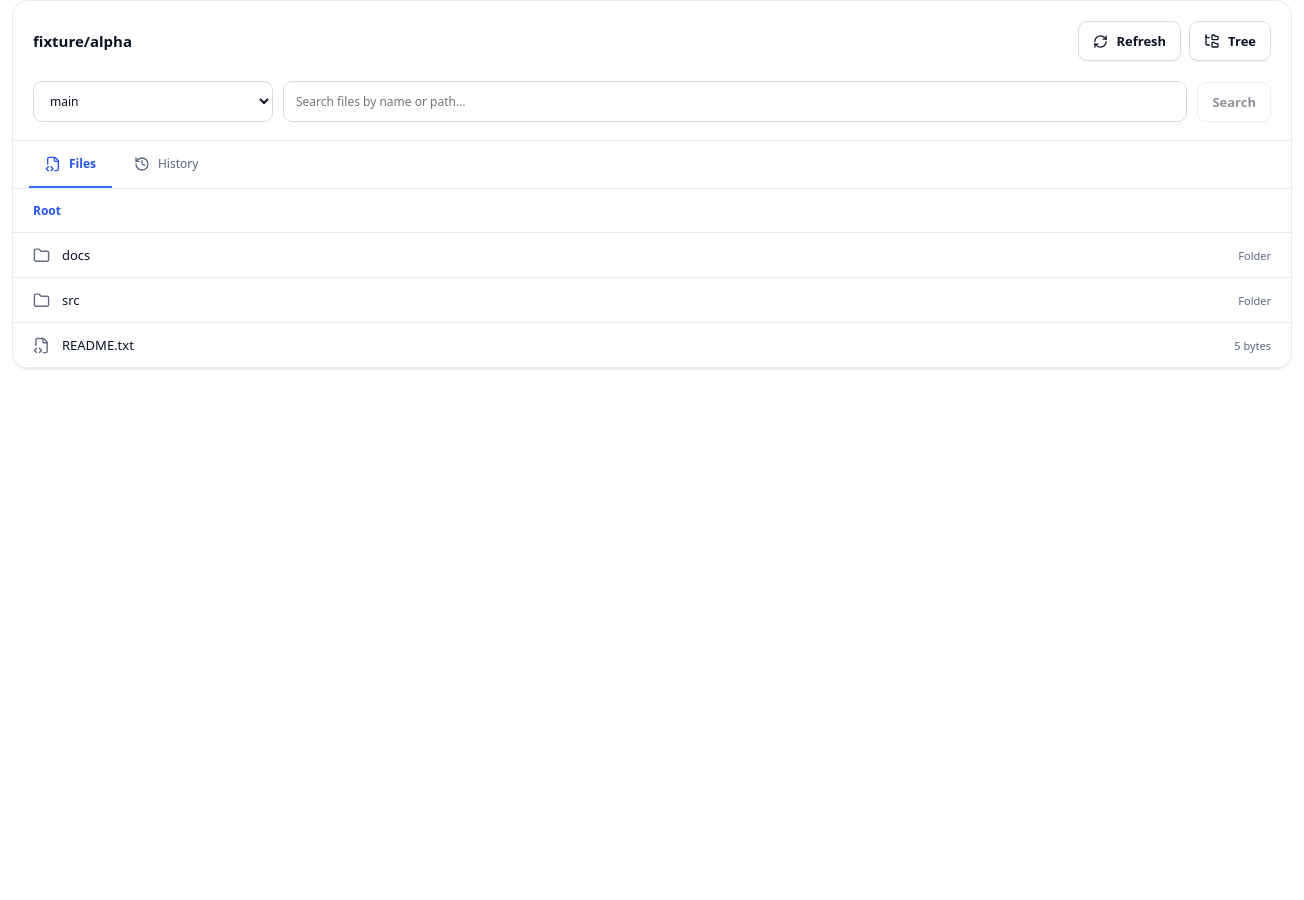
Test case: removes both code and tree after a folder request reports lost access
This screenshot has width=1304, height=900.
Click the button "README.txt 5 bytes" at x=98, y=345, box [13,323,1291,368]
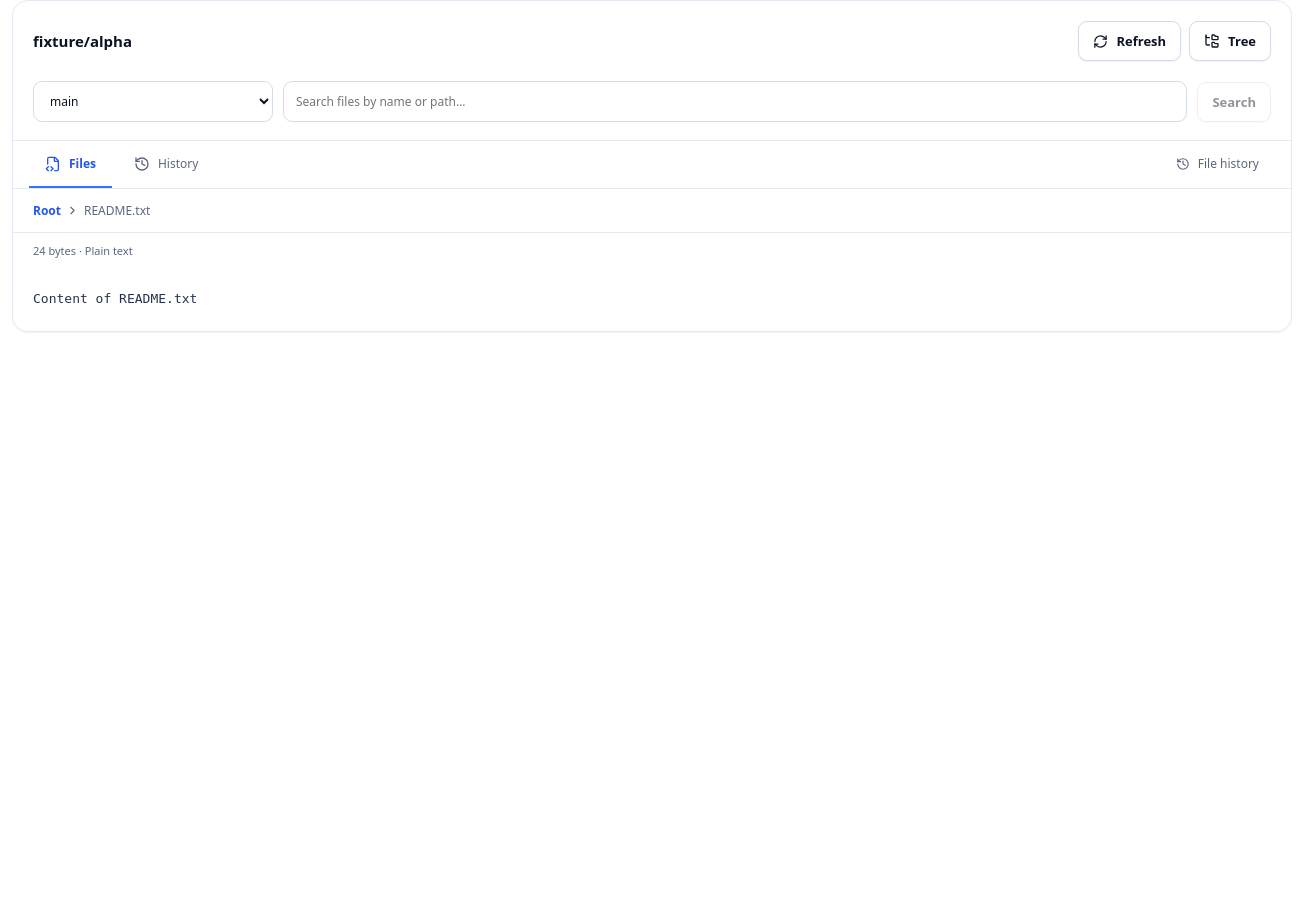
Now the text "Content of README.txt" is shown, box [33,291,197,306]
Click the button "Tree" at x=1230, y=41, box [1189,21,1271,61]
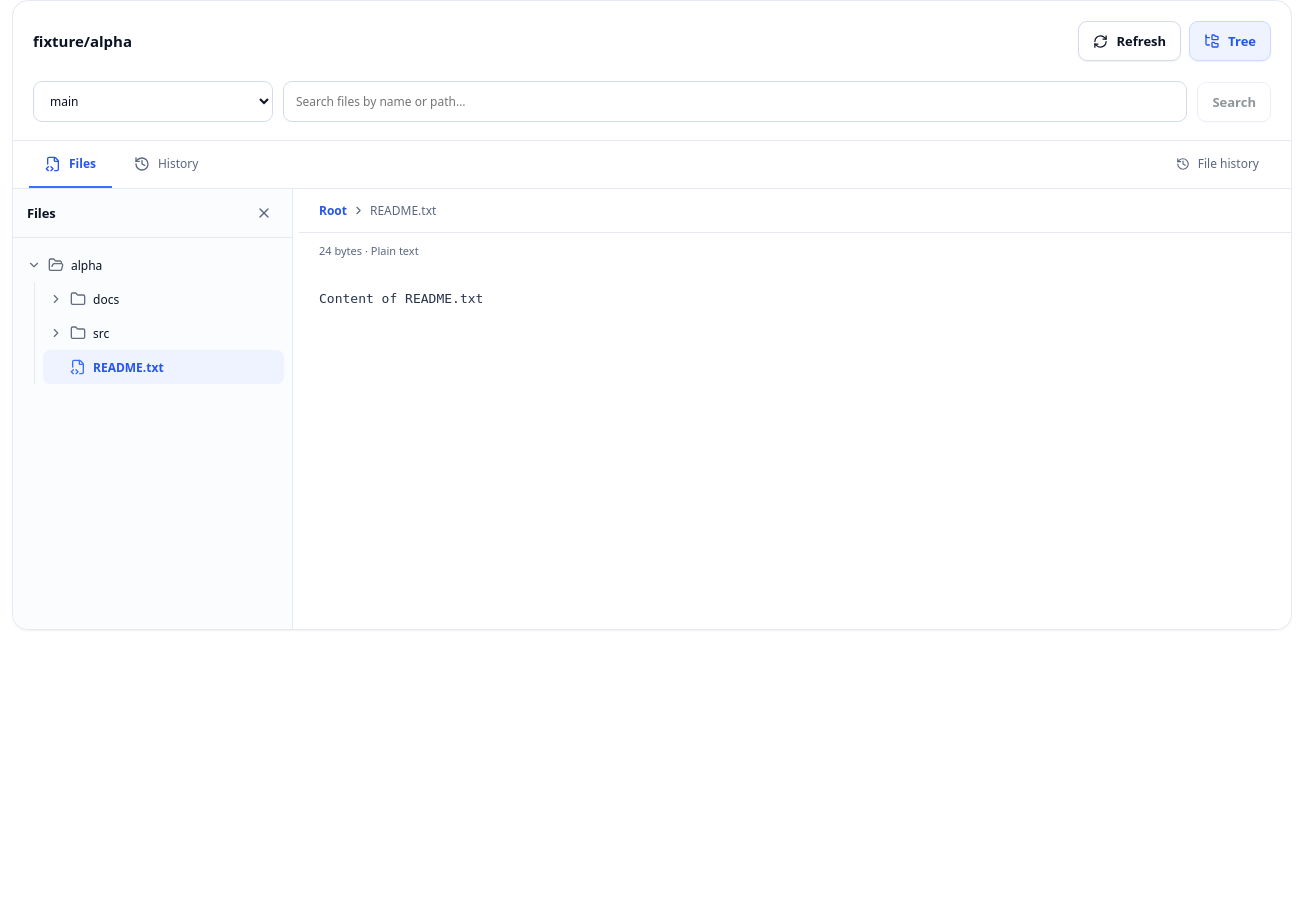
Now the button "docs" is shown
Click the button "docs" at x=164, y=299, box [43,282,284,316]
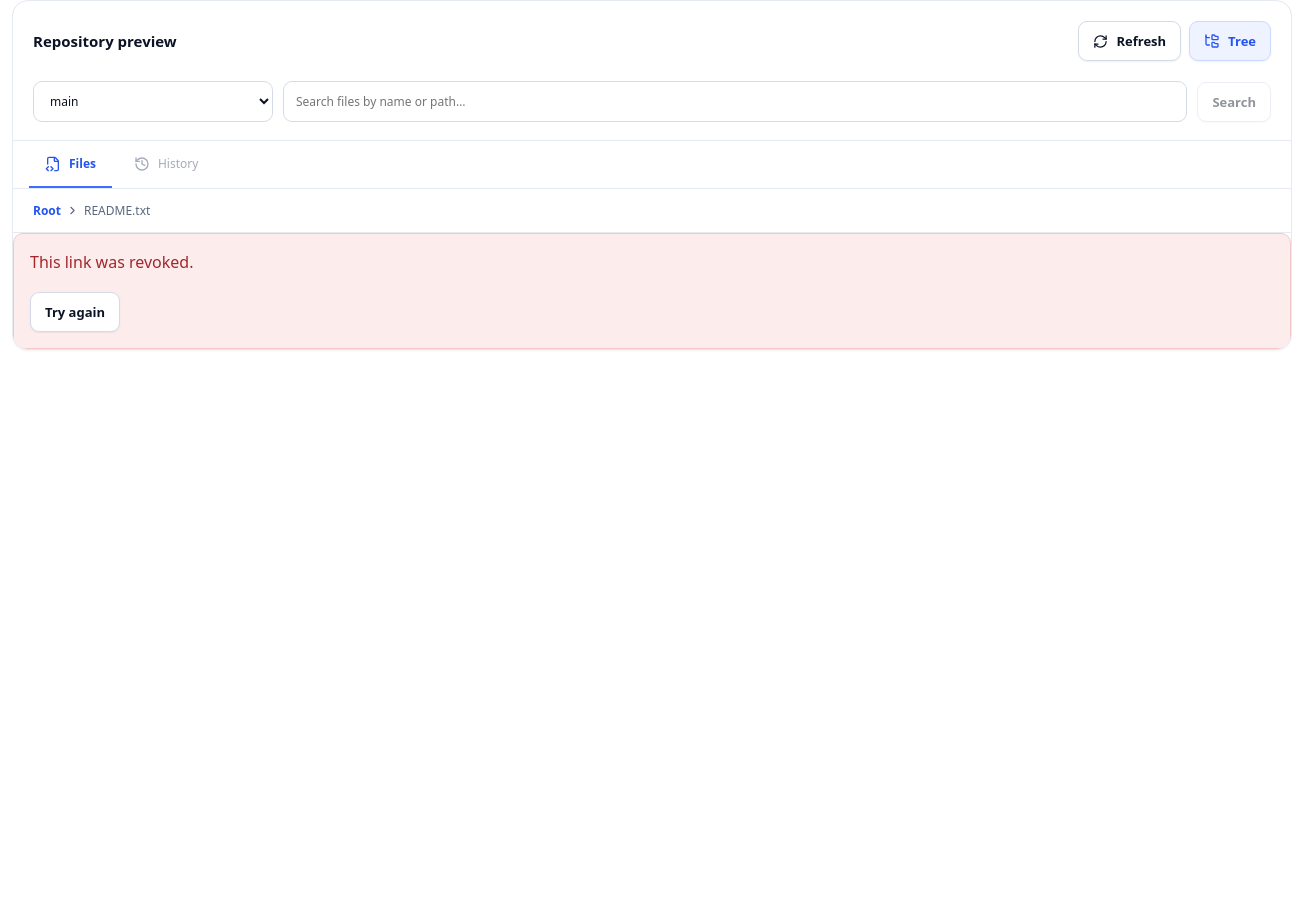
Now the message reads "This link was revoked.", box [30,251,194,273]
Now the text "Content of README.txt" is gone
